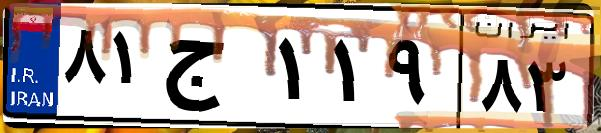1: (270, 28, 330, 110), (330, 28, 385, 110), (110, 28, 158, 98)
3: (525, 38, 570, 115)
8: (57, 26, 110, 100), (475, 38, 525, 113)
9: (385, 28, 445, 110)
ج: (158, 20, 270, 120)
